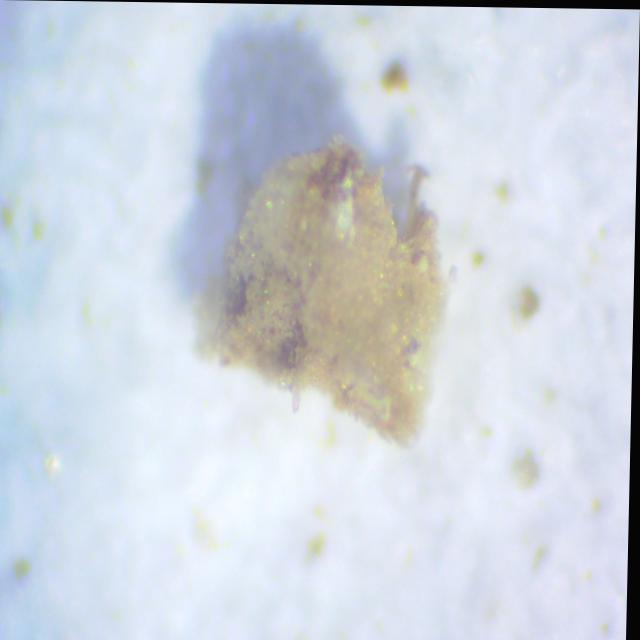microplastic: (202, 135, 450, 451)
